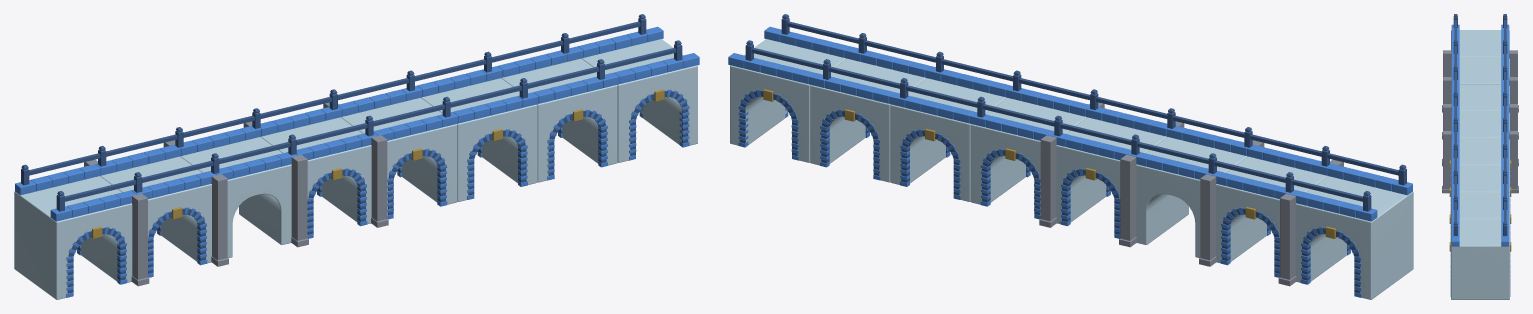
Rendered from Bridge1.fbx.
3 renders of one model, left to right at view 1: azimuth 30°, elevation 25°; view 2: azimuth 150°, elevation 25°; view 3: azimuth 270°, elevation 25°, orthographic. The views are drawn at different scales.
Visible parts, largest first — view 1: Cube.009, Cube.012, Cube.014, Cube.025, Cube.013, Cube.029, Cube.027, Cube.031, Cube.021, Cube.023, Cube.017, Cube.032; view 2: Cube.009, Cube.012, Cube.014, Cube.025, Cube.013, Cube.029, Cube.027, Cube.031, Cube.021, Cube.023, Cube.017, Cube.032; view 3: Cube.009, Cube.012, Cube.025, Cube.013, Cube.014, Cube.032.
Boxes of the visible parts, x1=… form: Cube.009: x1=14, y1=39, x2=697, y2=299; Cube.012: x1=15, y1=26, x2=699, y2=221; Cube.014: x1=29, y1=21, x2=676, y2=201; Cube.025: x1=84, y1=102, x2=388, y2=286; Cube.013: x1=21, y1=14, x2=682, y2=211; Cube.029: x1=547, y1=109, x2=607, y2=180; Cube.027: x1=467, y1=129, x2=527, y2=199; Cube.031: x1=66, y1=227, x2=127, y2=297; Cube.021: x1=307, y1=168, x2=367, y2=238; Cube.023: x1=387, y1=148, x2=447, y2=219; Cube.017: x1=148, y1=207, x2=207, y2=277; Cube.032: x1=629, y1=89, x2=689, y2=160; Cube.009: x1=730, y1=39, x2=1413, y2=299; Cube.012: x1=728, y1=26, x2=1412, y2=221; Cube.014: x1=751, y1=21, x2=1398, y2=201; Cube.025: x1=1039, y1=102, x2=1343, y2=286; Cube.013: x1=745, y1=14, x2=1406, y2=211; Cube.029: x1=820, y1=109, x2=880, y2=180; Cube.027: x1=900, y1=129, x2=960, y2=199; Cube.031: x1=1300, y1=227, x2=1361, y2=297; Cube.021: x1=1060, y1=168, x2=1120, y2=238; Cube.023: x1=980, y1=148, x2=1040, y2=219; Cube.017: x1=1220, y1=207, x2=1279, y2=277; Cube.032: x1=738, y1=89, x2=798, y2=160; Cube.009: x1=1451, y1=30, x2=1509, y2=299; Cube.012: x1=1451, y1=24, x2=1509, y2=246; Cube.025: x1=1442, y1=50, x2=1518, y2=193; Cube.013: x1=1453, y1=14, x2=1507, y2=235; Cube.014: x1=1454, y1=20, x2=1506, y2=221; Cube.032: x1=1450, y1=241, x2=1510, y2=296.
Size of the model in its own units: 5924 by 918 by 886.
